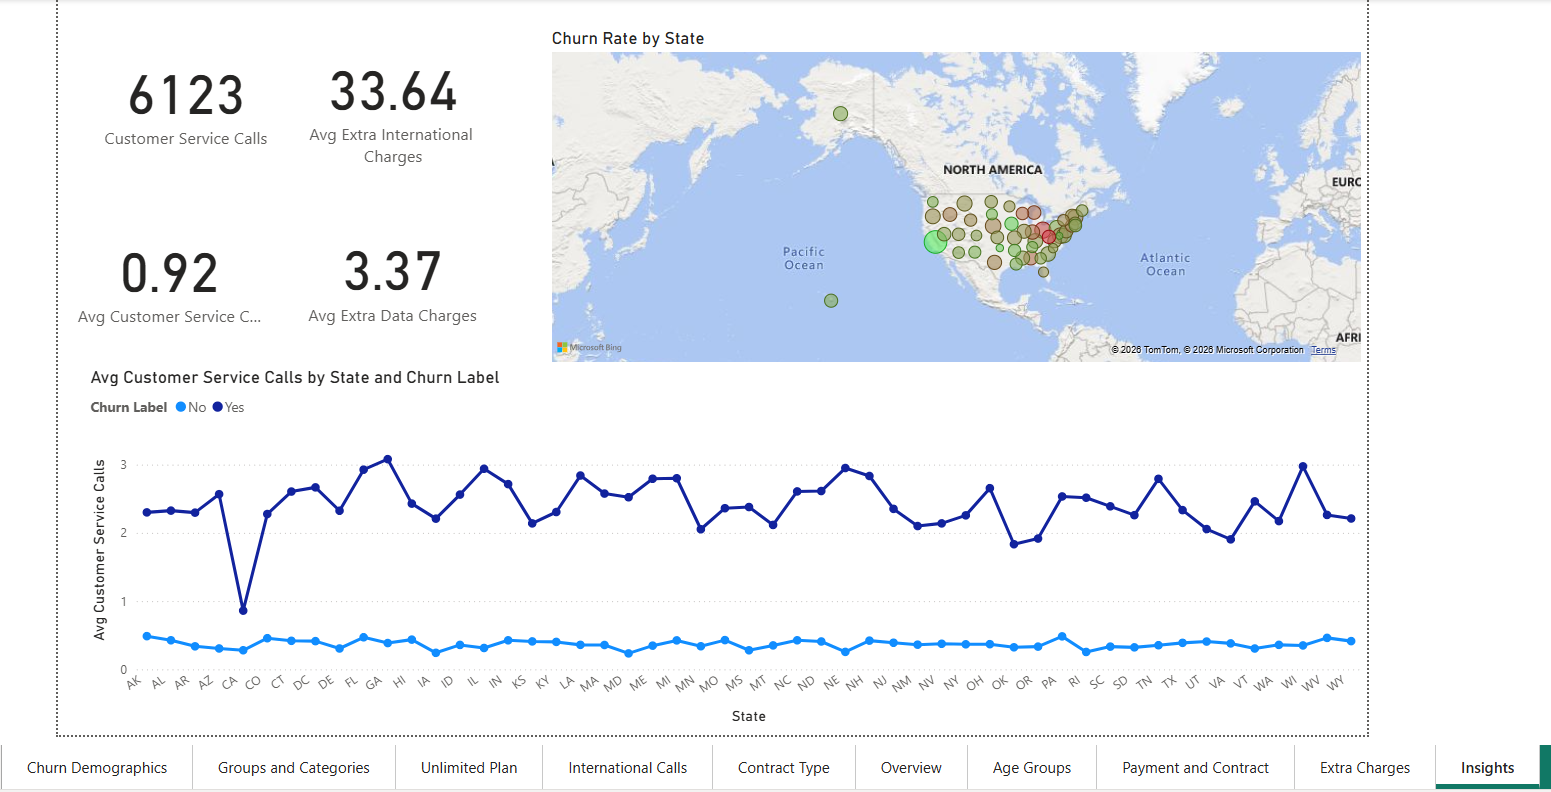

What the dashboard file says about the page in this screenshot:
{"tool":"powerbi","page":{"name":"Insights","canvas":[1280,720],"ordinal":9},"visuals":[{"type":"card","fields":{"Values":["Sum(Databel - Data.Customer Service Calls)"]},"box":[27.6,6.1,194.4,182.2],"z":0},{"type":"card","fields":{"Values":["Databel - Data.Avg Customer Service Calls"]},"box":[12.2,186.8,194.4,168.4],"z":1000},{"type":"card","fields":{"Values":["Databel - Data.Avg Extra International Charges"]},"box":[222,0,211.3,186.8],"z":2000},{"type":"card","fields":{"Values":["Databel - Data.Avg Extra Data Charges"]},"box":[209.8,165.4,234.3,209.8],"z":3000},{"type":"lineChart","fields":{"Category":["Databel - Data.State"],"Y":["Databel - Data.Avg Customer Service Calls"],"Series":["Databel - Data.Churn Label"]},"box":[27.2,359.9,1252.8,355],"z":4000},{"type":"map","fields":{"Category":["Databel - Data.State"],"Size":["Databel - Data.Churn Rate"]},"box":[477.7,27.6,802.3,332.2],"z":5000}]}

Visuals, with their boxes on the page's 1280x720 design canvas (x1, y1, x2, y2). These are canvas units, not pixel positions in the 1551x792 screenshot, which may show the page scaled, cropped or inside an application window:
card - Sum(Databel - Data.Customer Service Calls): [28,6,222,188]
card - Databel - Data.Avg Customer Service Calls: [12,187,207,355]
card - Databel - Data.Avg Extra International Charges: [222,0,433,187]
card - Databel - Data.Avg Extra Data Charges: [210,165,444,375]
lineChart - Databel - Data.State x Databel - Data.Avg Customer Service Calls: [27,360,1280,715]
map - Databel - Data.State x Databel - Data.Churn Rate: [478,28,1280,360]
